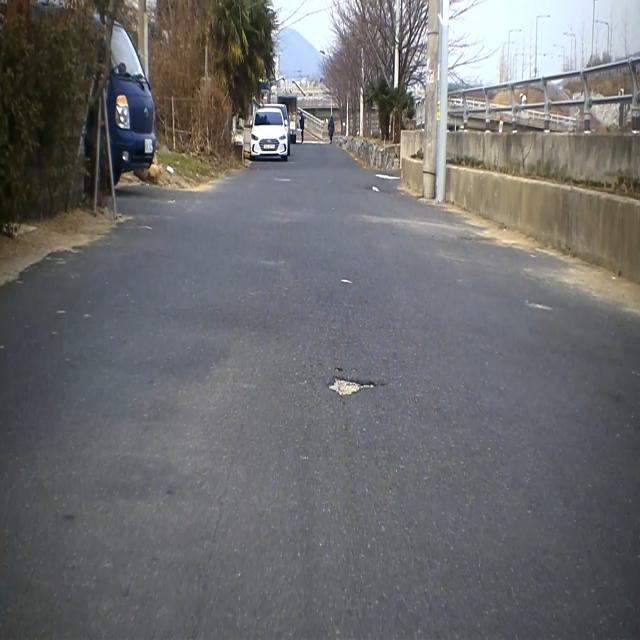Pothole: (323, 367, 383, 411)
